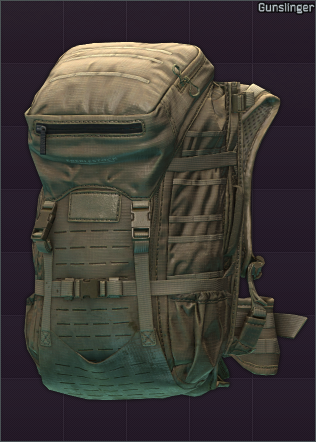Eberlestock G2 Gunslinger II backpack Dry Earth: (0, 0, 316, 442)
